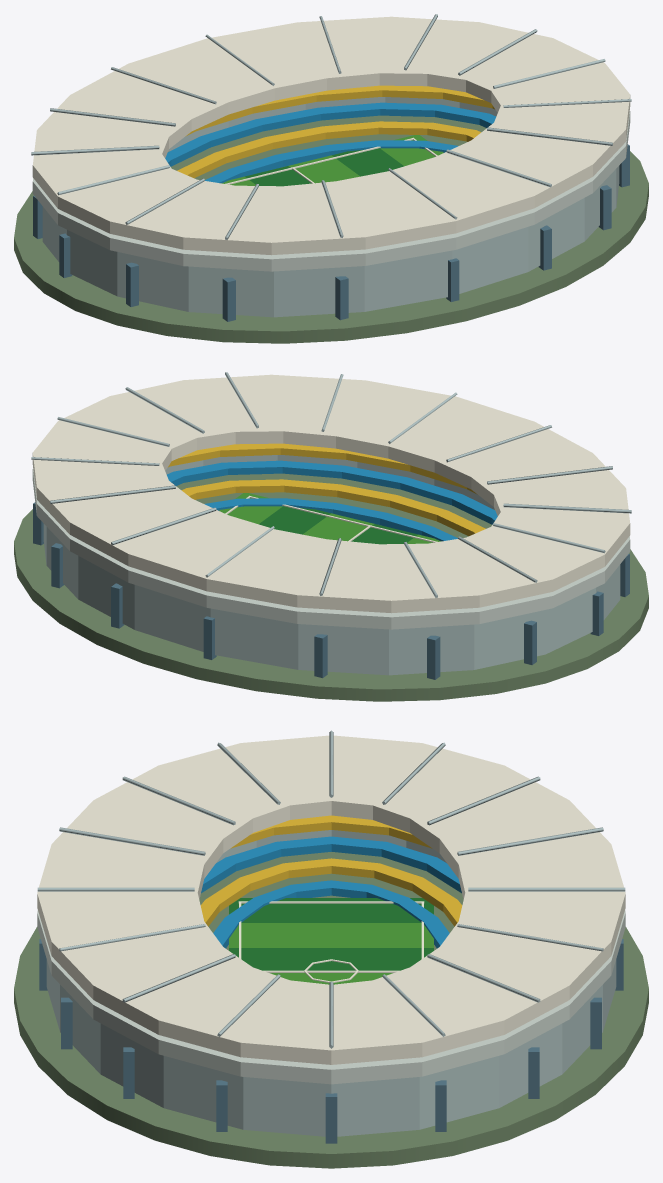
The model's file is maracana.glb.
3 views of the same model, one above another, from view 1: azimuth 30°, elevation 25°; view 2: azimuth 150°, elevation 25°; view 3: azimuth 270°, elevation 25° (orthographic). The views are drawn at different scales.
Visible parts, largest first — view 1: roof_DDE2D6, outer_bowl_BEC7B9, base_A2B19A, rim_D7DDCE, seating_799D9C, seating_A1B8B1, roof_ribs_B4C2B7, columns_778B81, pitch_60924D, pitch_507F40, pitch_lines_DFE4C7; view 2: roof_DDE2D6, outer_bowl_BEC7B9, base_A2B19A, rim_D7DDCE, seating_799D9C, seating_A1B8B1, roof_ribs_B4C2B7, columns_778B81, pitch_60924D, pitch_507F40, pitch_lines_DFE4C7; view 3: roof_DDE2D6, base_A2B19A, outer_bowl_BEC7B9, rim_D7DDCE, roof_ribs_B4C2B7, seating_799D9C, pitch_507F40, seating_A1B8B1, pitch_60924D, columns_778B81, pitch_lines_DFE4C7.
Boxes of the visible parts, x1,y1,x2,y2 form: roof_DDE2D6: [32, 16, 630, 255]; outer_bowl_BEC7B9: [42, 97, 619, 317]; base_A2B19A: [14, 115, 648, 343]; rim_D7DDCE: [32, 111, 630, 271]; seating_799D9C: [165, 102, 495, 183]; seating_A1B8B1: [177, 85, 494, 178]; roof_ribs_B4C2B7: [31, 14, 631, 239]; columns_778B81: [33, 144, 629, 321]; pitch_60924D: [222, 135, 443, 185]; pitch_507F40: [245, 148, 403, 186]; pitch_lines_DFE4C7: [225, 137, 437, 184]; roof_DDE2D6: [32, 374, 630, 613]; outer_bowl_BEC7B9: [43, 455, 620, 675]; base_A2B19A: [14, 473, 648, 701]; rim_D7DDCE: [32, 469, 630, 629]; seating_799D9C: [167, 460, 497, 541]; seating_A1B8B1: [168, 443, 485, 536]; roof_ribs_B4C2B7: [31, 372, 631, 597]; columns_778B81: [33, 502, 629, 679]; pitch_60924D: [219, 493, 440, 543]; pitch_507F40: [259, 506, 417, 544]; pitch_lines_DFE4C7: [225, 495, 437, 542]; roof_DDE2D6: [37, 735, 625, 1064]; base_A2B19A: [14, 852, 648, 1168]; outer_bowl_BEC7B9: [46, 830, 616, 1136]; rim_D7DDCE: [37, 910, 625, 1084]; roof_ribs_B4C2B7: [37, 730, 625, 1048]; seating_799D9C: [201, 836, 461, 948]; pitch_507F40: [229, 898, 433, 970]; seating_A1B8B1: [200, 815, 462, 926]; pitch_60924D: [229, 923, 433, 984]; columns_778B81: [39, 939, 623, 1143]; pitch_lines_DFE4C7: [238, 901, 424, 982].
Size of the model in its own units: 1 by 0.1618 by 0.8091.
